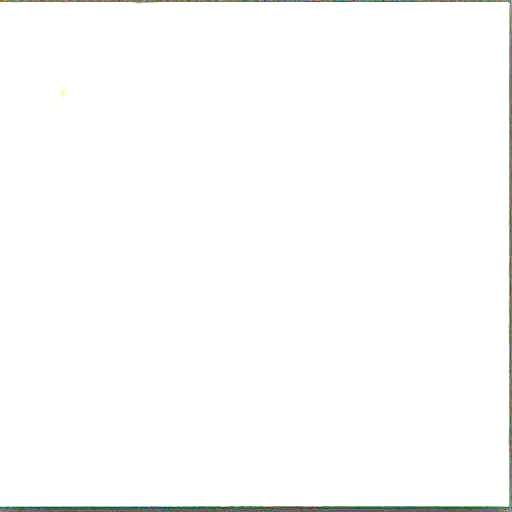Leaf Spot: (211, 3, 449, 505), (0, 257, 265, 506), (322, 393, 510, 507)
